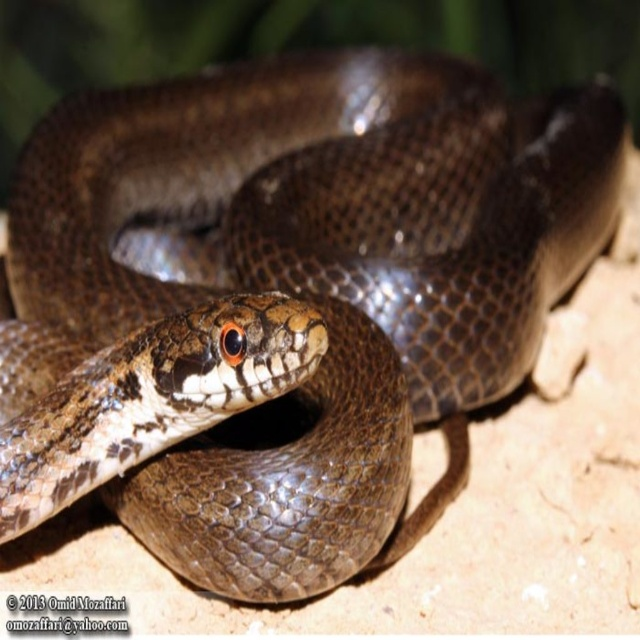Snake: (0, 46, 635, 618)
